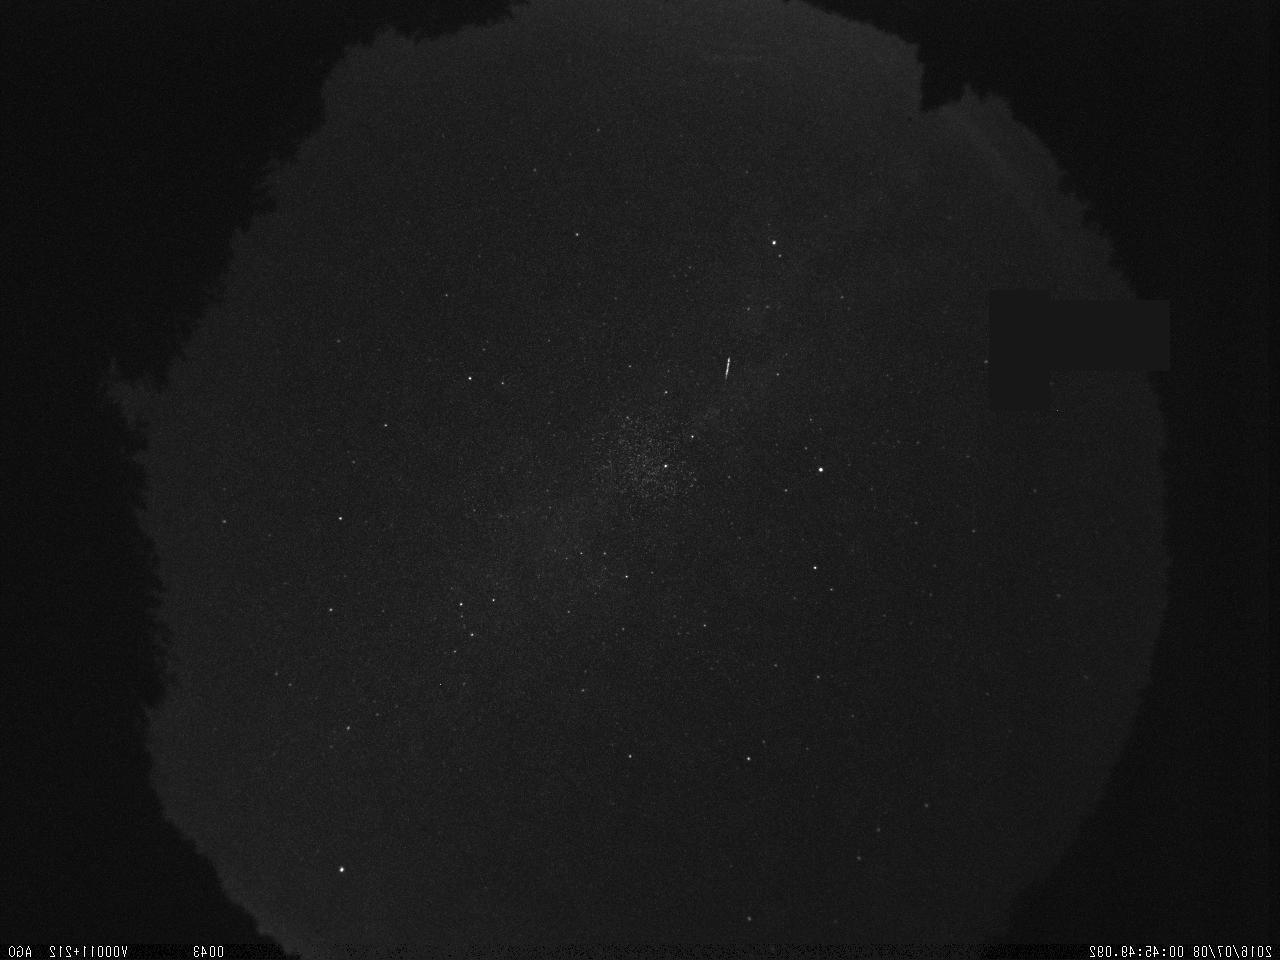meteor: (717, 353, 738, 395)
